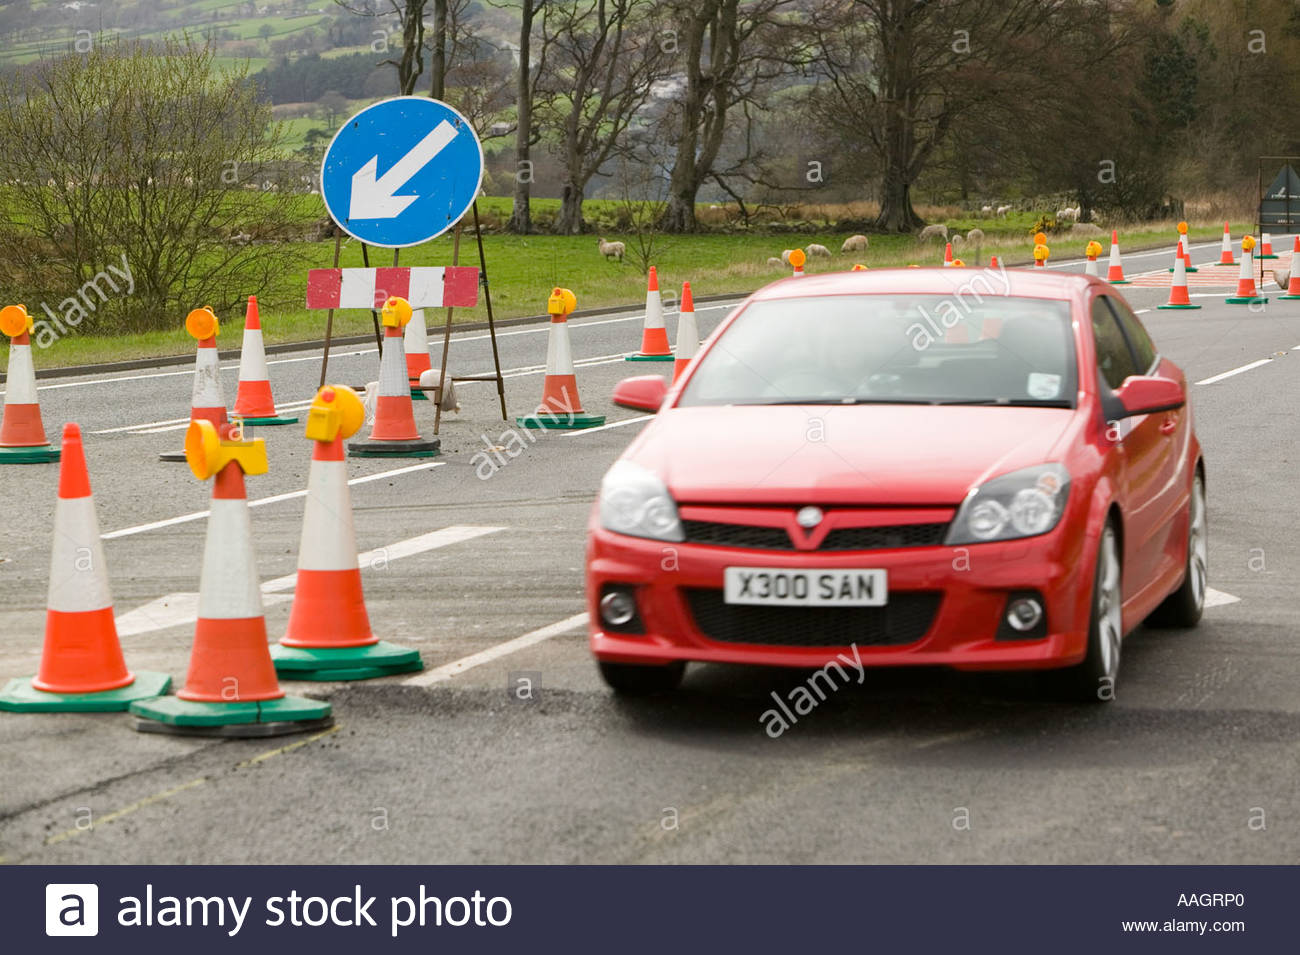cone: (127, 418, 337, 742), (252, 387, 431, 682), (1, 419, 175, 719), (348, 302, 441, 462), (154, 309, 248, 460), (515, 291, 607, 426), (1, 294, 66, 464), (218, 295, 295, 427), (627, 268, 677, 359), (1159, 241, 1205, 314), (1226, 238, 1270, 302), (1097, 230, 1132, 284), (1170, 223, 1198, 273), (1212, 223, 1236, 264), (1284, 237, 1299, 295)
